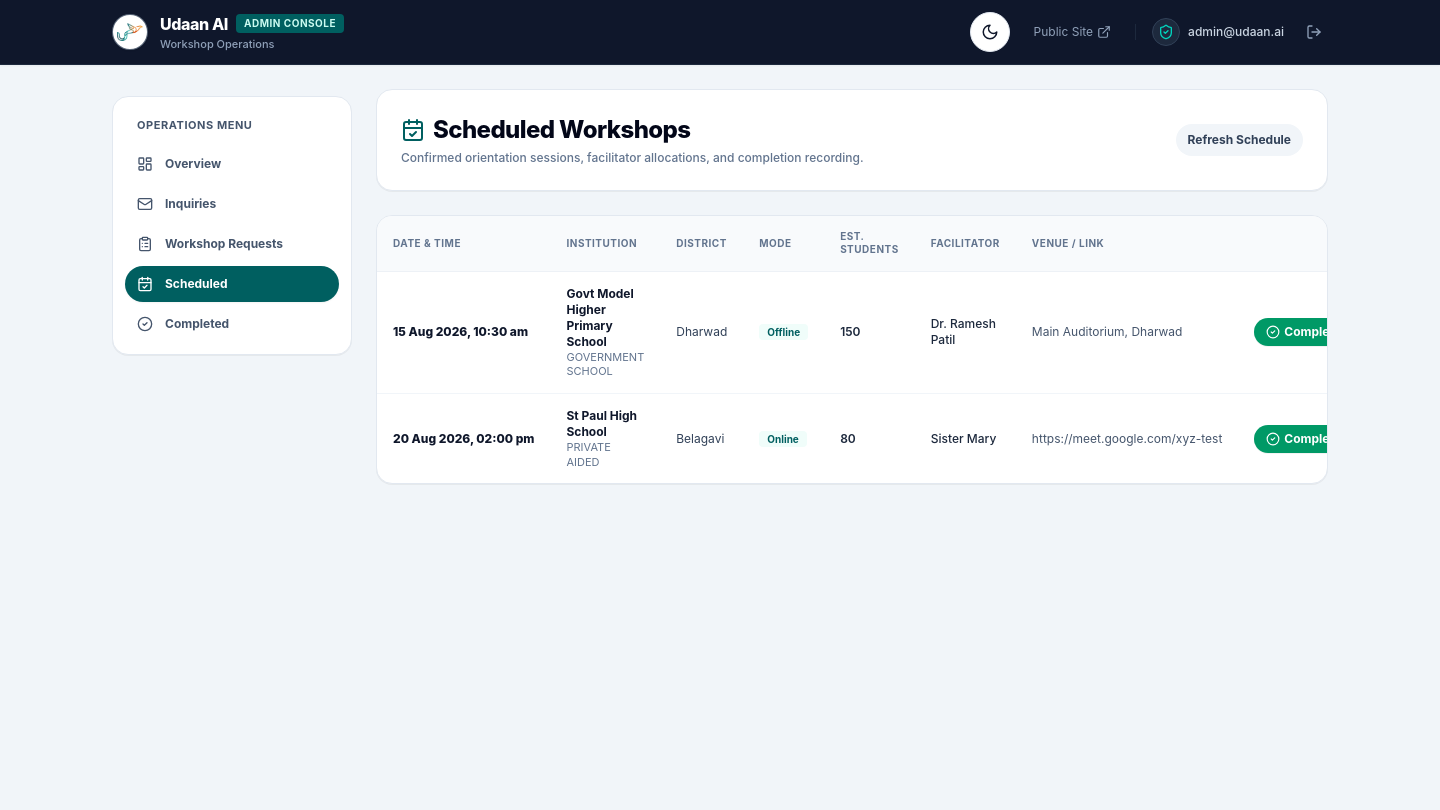
AdminScheduledPage Cancellation Recovery › AdminScheduledPage Workshop Completion › resets complete form and clears stale errors when switching workshops
Expected: the text "Govt Model Higher Primary School" is shown, [566,286,644,350]
Expected: the text "St Paul High School" is shown, [566,408,644,440]
// Open complete dialog for workshop 1
Click the button "Complete" in the row of "15 Aug 2026, 10:30 am": (1304,332) [1254,318,1353,346]
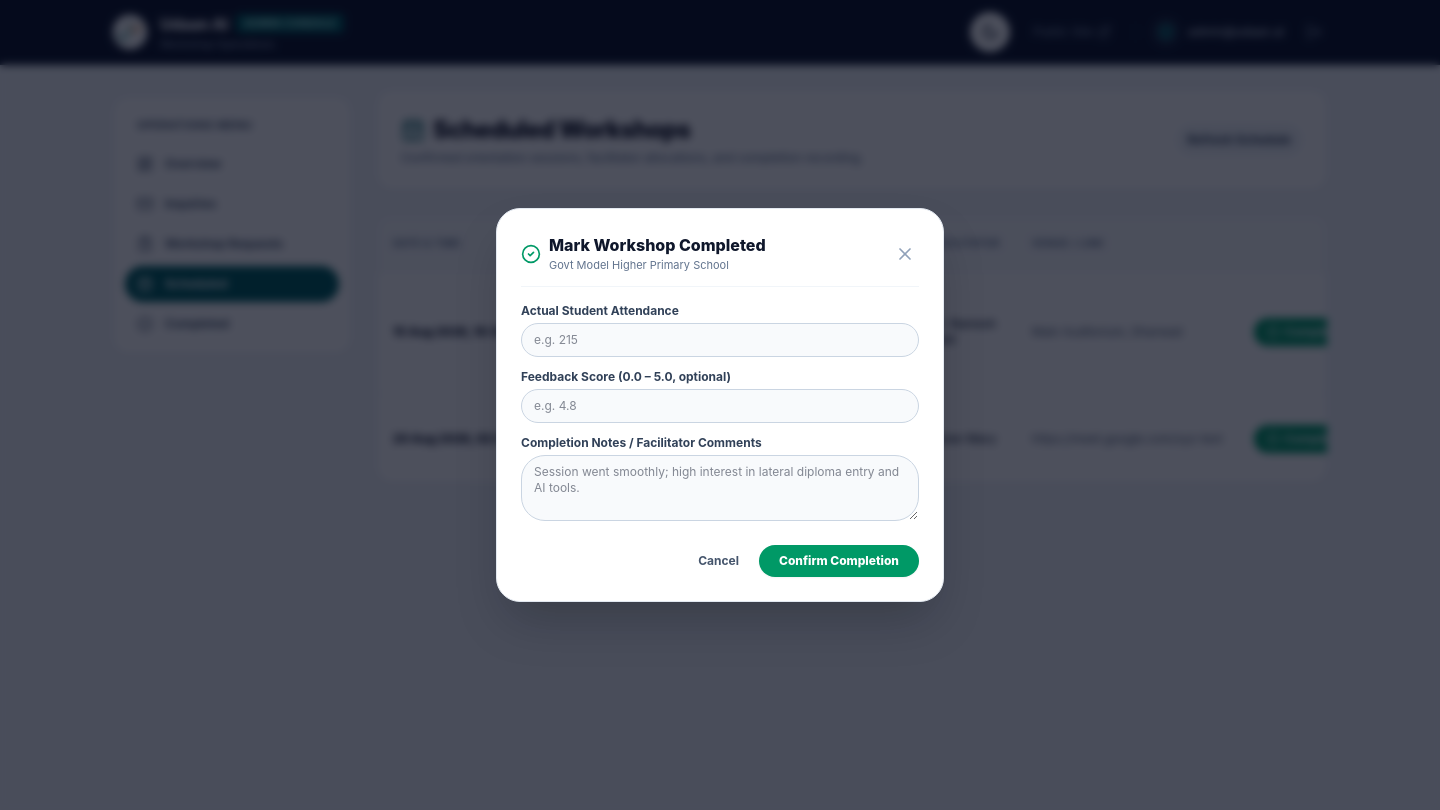
Now the heading "Mark Workshop Completed" is shown, box [549,233,766,257]
In the number field labelled "Actual Student Attendance": (720,340) [521,323,919,357], type "50"
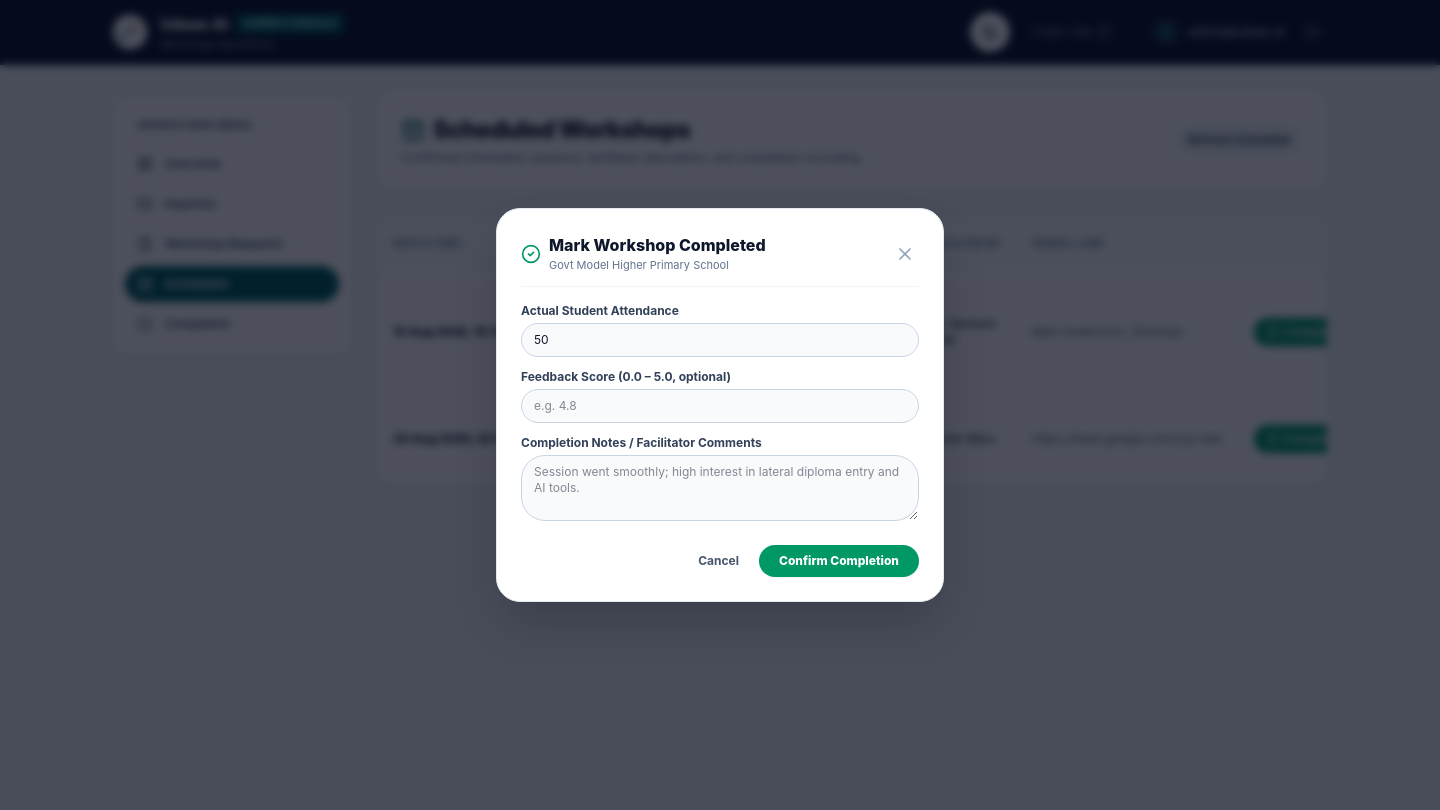
Click the button "Confirm Completion": (839,561) [759,545,919,577]
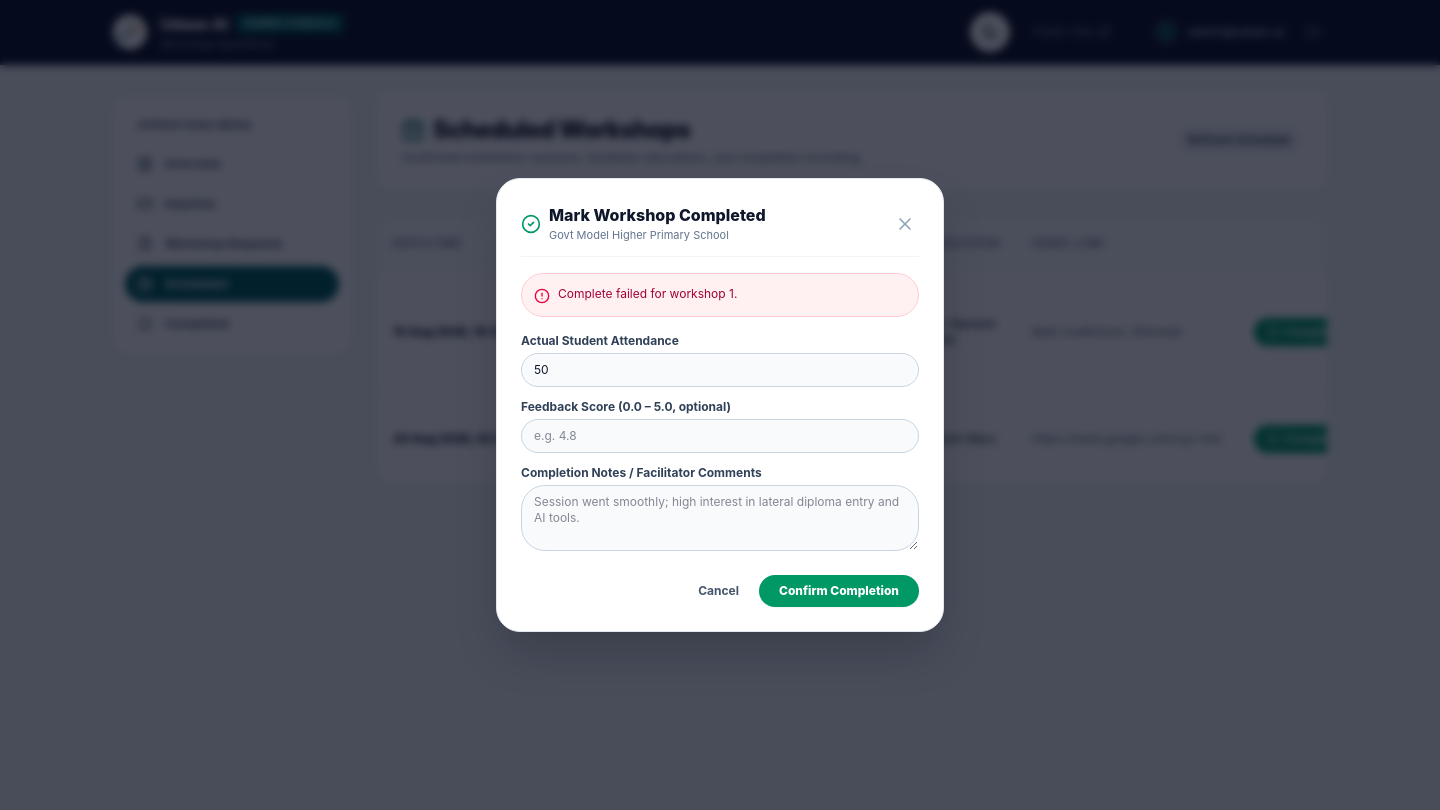
Now the message reads "Complete failed for workshop 1.", box [558,286,737,301]
// Close modal
Click the button named "close complete modal": (905,224) [891,210,919,238]
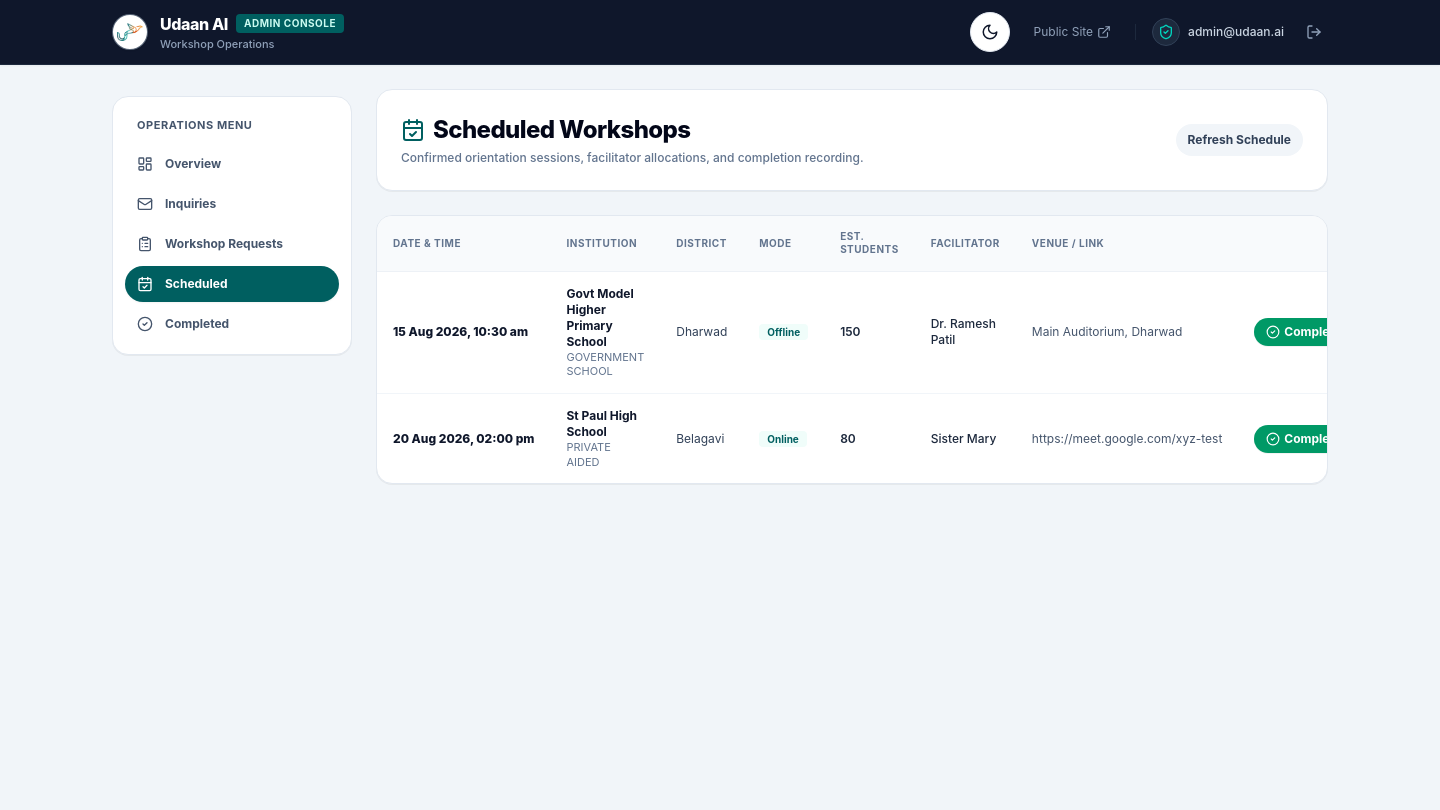
Now the heading "Mark Workshop Completed" is gone
// Open complete dialog for workshop 2
Click the button "Complete" in the row of "20 Aug 2026, 02:00 pm": (1304,439) [1254,425,1353,453]
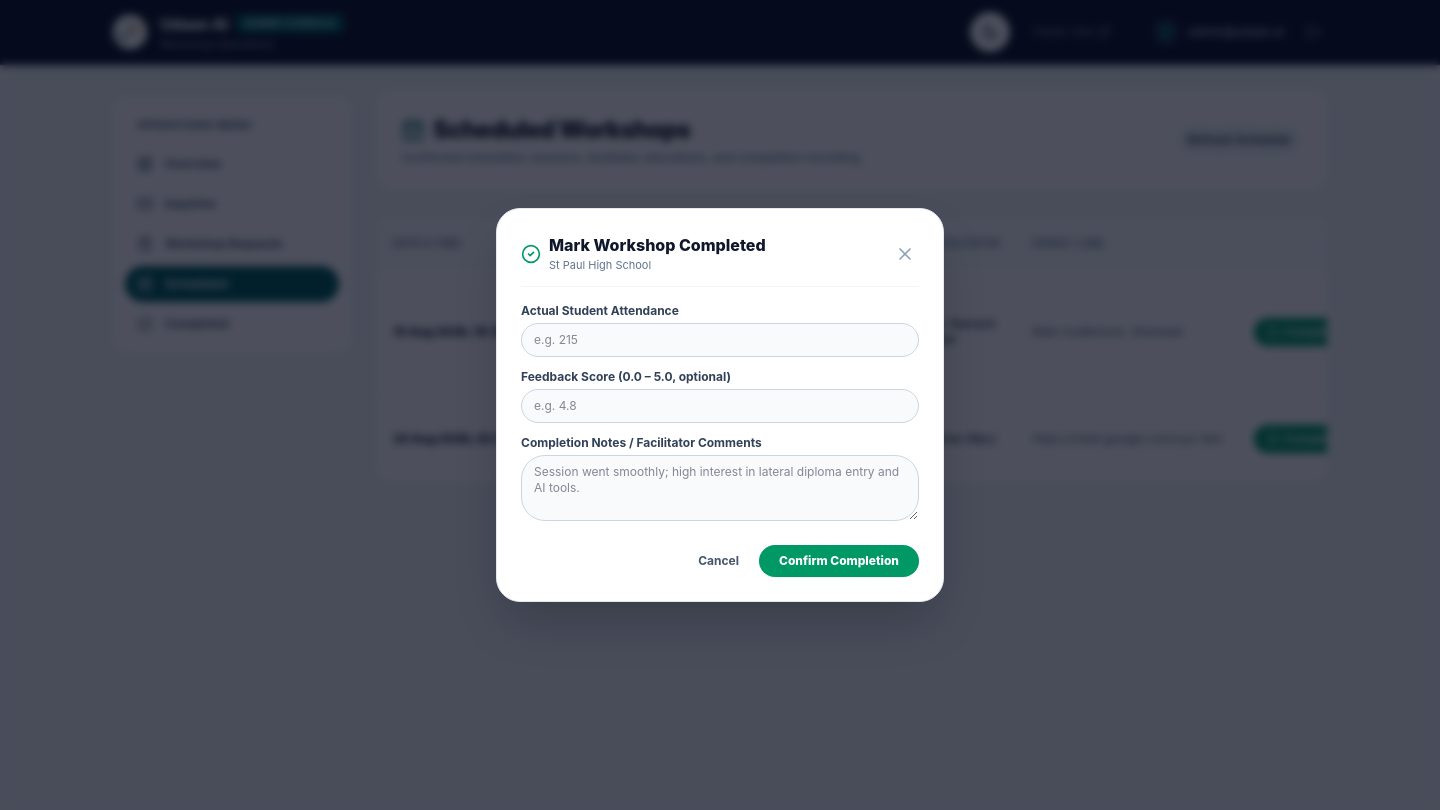
Now the heading "Mark Workshop Completed" is shown, box [549,233,766,257]
Now the number field labelled "Actual Student Attendance" is empty, box [521,323,919,357]
Now the number field labelled "Feedback Score (0.0 – 5.0, optional)" is empty, box [521,389,919,423]
